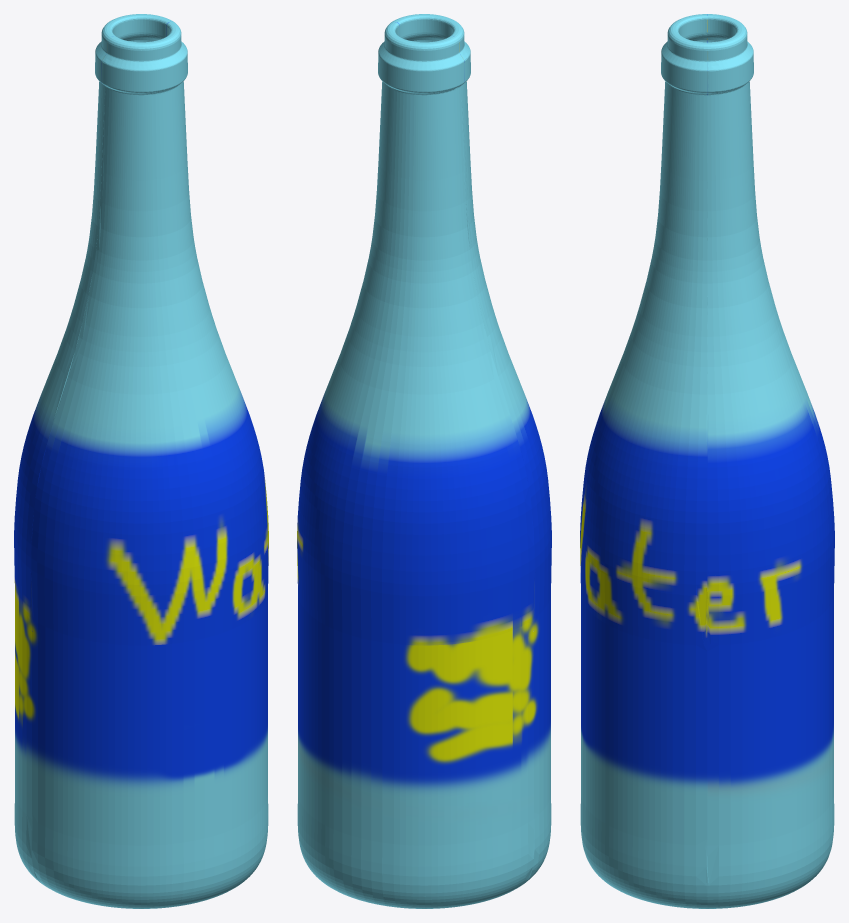
File: bottle1.obj
The picture shows the model from 3 angles, left to right: view 1: azimuth 30°, elevation 25°; view 2: azimuth 150°, elevation 25°; view 3: azimuth 270°, elevation 25°; orthographic projection.
Parts seen in each view (by area): view 1: uploads_files_2059497_BOTTLE+HIGH+POLY; view 2: uploads_files_2059497_BOTTLE+HIGH+POLY; view 3: uploads_files_2059497_BOTTLE+HIGH+POLY.
Part boxes in pixels (x1,y1,x2,y2): uploads_files_2059497_BOTTLE+HIGH+POLY: (14,14,268,908); uploads_files_2059497_BOTTLE+HIGH+POLY: (297,14,551,908); uploads_files_2059497_BOTTLE+HIGH+POLY: (580,14,834,908).
Bounding box in the file's own units: 57.39 × 207 × 57.39.
1 material, 1 textured.
